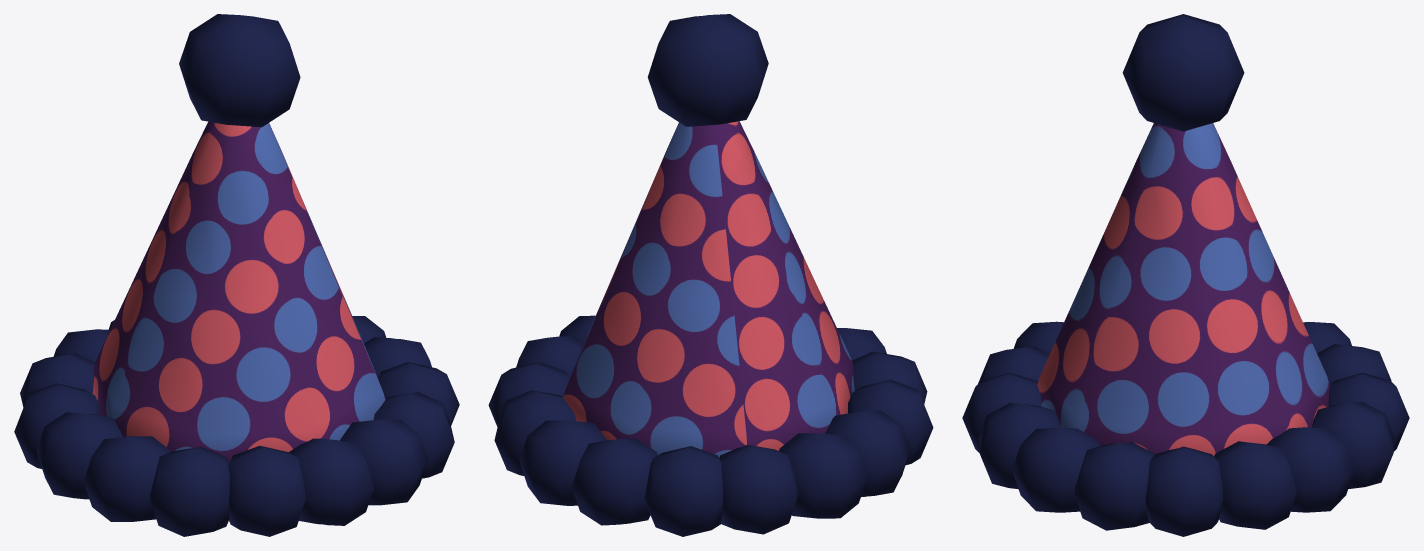
Rendered from party_hat_1_textured.fbx.
3 renders of one model, left to right at view 1: azimuth 30°, elevation 25°; view 2: azimuth 150°, elevation 25°; view 3: azimuth 270°, elevation 25°, orthographic.
Visible parts, largest first — view 1: geo_partyHat_1; view 2: geo_partyHat_1; view 3: geo_partyHat_1.
Part boxes in pixels (box(x1,y1,x2,y2)): geo_partyHat_1: box(14, 14, 459, 536); geo_partyHat_1: box(488, 14, 933, 536); geo_partyHat_1: box(962, 14, 1409, 536).
Bounding box in the file's own units: 1.02 × 1.02 × 1.11.
1 material, 1 textured.
